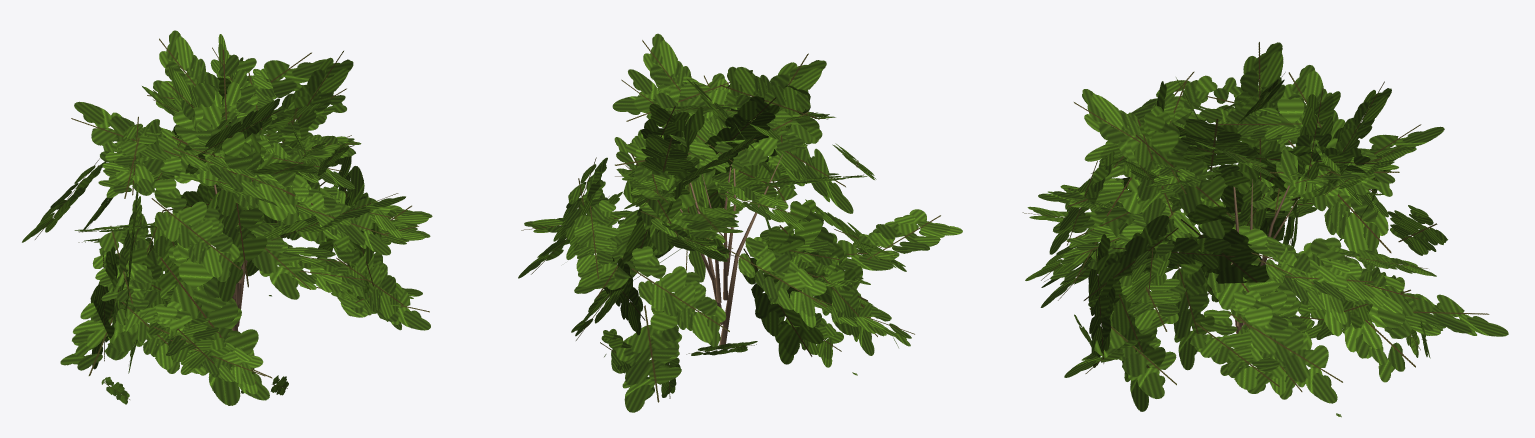
Rendered from mid.glb.
3 renders of one model, left to right at view 1: azimuth 30°, elevation 25°; view 2: azimuth 150°, elevation 25°; view 3: azimuth 270°, elevation 25°, orthographic. The views are drawn at different scales.
Parts seen in each view (by area): view 1: foliage.001; view 2: foliage.001, bark.001; view 3: foliage.001, bark.001.
Boxes of the visible parts, x1=… form: foliage.001: x1=22, y1=30, x2=432, y2=405; foliage.001: x1=518, y1=33, x2=962, y2=412; bark.001: x1=680, y1=154, x2=782, y2=345; foliage.001: x1=1022, y1=42, x2=1508, y2=417; bark.001: x1=1231, y1=179, x2=1297, y2=333.
Bounding box in the file's own units: 14.65 × 10.3 × 14.79.
Materials: 2 (1 with a texture image).
